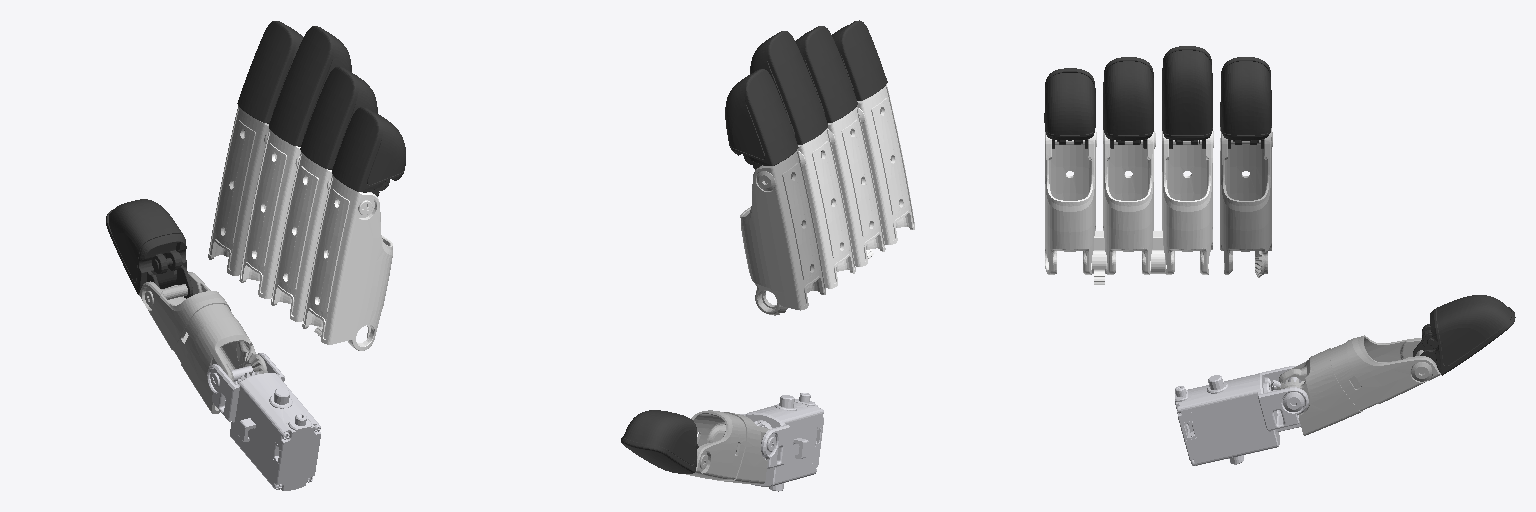
robot.urdf — agile2-lite-T1-0508_URDF:
<?xml version="1.0" encoding="utf-8"?>
<!-- This URDF was automatically created by SolidWorks to URDF Exporter! Originally created by Stephen Brawner (brawner@gmail.com) 
     Commit Version: 1.6.0-4-g7f85cfe  Build Version: 1.6.7995.38578
     For more information, please see http://wiki.ros.org/sw_urdf_exporter -->
<robot
  name="agile2-lite-T1-0508_URDF">
  <link
    name="palm_link">
    <inertial>
      <origin
        xyz="-0.0025557 0.0036328 0.045437"
        rpy="0 0 0" />
      <mass
        value="0.10311" />
      <inertia
        ixx="7.3136E-05"
        ixy="4.9988E-08"
        ixz="5.0138E-06"
        iyy="5.5748E-05"
        iyz="-5.2478E-07"
        izz="2.7289E-05" />
    </inertial>
    <visual>
      <origin
        xyz="0 0 0"
        rpy="0 0 0" />
      <geometry>
        <mesh
          filename="../meshes/palm_link.STL" />
      </geometry>
      <material
        name="">
        <color
          rgba="0.90588 0.27843 1 1" />
      </material>
    </visual>
    <collision>
      <origin
        xyz="0 0 0"
        rpy="0 0 0" />
      <geometry>
        <mesh
          filename="../meshes/palm_link.STL" />
      </geometry>
    </collision>
  </link>
  <link
    name="thumb_abad_Link">
    <inertial>
      <origin
        xyz="7.9767E-05 -0.00062615 0.0070887"
        rpy="0 0 0" />
      <mass
        value="0.011435" />
      <inertia
        ixx="6.8145E-07"
        ixy="-6.2656E-10"
        ixz="-2.6064E-09"
        iyy="5.4226E-07"
        iyz="-1.9286E-08"
        izz="4.7197E-07" />
    </inertial>
    <visual>
      <origin
        xyz="0 0 0"
        rpy="0 0 0" />
      <geometry>
        <mesh
          filename="../meshes/thumb_abad_Link.STL" />
      </geometry>
      <material
        name="">
        <color
          rgba="0.86667 0.86667 0.8902 1" />
      </material>
    </visual>
    <collision>
      <origin
        xyz="0 0 0"
        rpy="0 0 0" />
      <geometry>
        <mesh
          filename="../meshes/thumb_abad_Link.STL" />
      </geometry>
    </collision>
  </link>
  <joint
    name="thumb_abad_joint"
    type="revolute">
    <origin
      xyz="0.0045 0.018574 0.033567"
      rpy="-1.3265 0 0" />
    <parent
      link="palm_link" />
    <child
      link="thumb_abad_Link" />
    <axis
      xyz="0 1 0" />
    <limit
      lower="0"
      upper="1.57"
      effort="0"
      velocity="0" />
  </joint>
  <link
    name="Thumb_pip_link">
    <inertial>
      <origin
        xyz="0.00014484 0.0014448 0.017207"
        rpy="0 0 0" />
      <mass
        value="0.01624" />
      <inertia
        ixx="2.4995E-06"
        ixy="1.4649E-09"
        ixz="2.1473E-08"
        iyy="2.5234E-06"
        iyz="5.1681E-08"
        izz="8.2488E-07" />
    </inertial>
    <visual>
      <origin
        xyz="0 0 0"
        rpy="0 0 0" />
      <geometry>
        <mesh
          filename="../meshes/Thumb_pip_link.STL" />
      </geometry>
      <material
        name="">
        <color
          rgba="0.75294 0.75294 0.75294 1" />
      </material>
    </visual>
    <collision>
      <origin
        xyz="0 0 0"
        rpy="0 0 0" />
      <geometry>
        <mesh
          filename="../meshes/Thumb_pip_link.STL" />
      </geometry>
    </collision>
  </link>
  <joint
    name="Thumb_pip_joint"
    type="revolute">
    <origin
      xyz="0 -0.0040951 0.02004"
      rpy="0 0 0" />
    <parent
      link="thumb_abad_Link" />
    <child
      link="Thumb_pip_link" />
    <axis
      xyz="-1 0 0" />
    <limit
      lower="-1.57"
      upper="0"
      effort="0"
      velocity="0" />
  </joint>
  <link
    name="Thumb_dip_link">
    <inertial>
      <origin
        xyz="-0.018074 -0.0046487 0.011924"
        rpy="0 0 0" />
      <mass
        value="0.014696" />
      <inertia
        ixx="8.6912E-07"
        ixy="4.3091E-09"
        ixz="1.7322E-09"
        iyy="8.689E-07"
        iyz="7.2261E-08"
        izz="3.9923E-07" />
    </inertial>
    <visual>
      <origin
        xyz="0 0 0"
        rpy="0 0 0" />
      <geometry>
        <mesh
          filename="../meshes/Thumb_dip_link.STL" />
      </geometry>
      <material
        name="">
        <color
          rgba="0.29804 0.29804 0.29804 1" />
      </material>
    </visual>
    <collision>
      <origin
        xyz="0 0 0"
        rpy="0 0 0" />
      <geometry>
        <mesh
          filename="../meshes/Thumb_dip_link.STL" />
      </geometry>
    </collision>
  </link>
  <joint
    name="Thumb_dip_joint"
    type="revolute">
    <origin
      xyz="0 0 0.036"
      rpy="0 0 0" />
    <parent
      link="Thumb_pip_link" />
    <child
      link="Thumb_dip_link" />
    <axis
      xyz="1 0 0" />
    <limit
      lower="0"
      upper="3.14"
      effort="0"
      velocity="0" />
  </joint>
  <link
    name="Index_pip_Link">
    <inertial>
      <origin
        xyz="-0.0012584 0.00013409 0.017046"
        rpy="0 0 0" />
      <mass
        value="0.01666" />
      <inertia
        ixx="2.4644E-06"
        ixy="-1.7738E-09"
        ixz="-4.9169E-08"
        iyy="2.4371E-06"
        iyz="2.1715E-08"
        izz="8.6041E-07" />
    </inertial>
    <visual>
      <origin
        xyz="0 0 0"
        rpy="0 0 0" />
      <geometry>
        <mesh
          filename="../meshes/Index_pip_Link.STL" />
      </geometry>
      <material
        name="">
        <color
          rgba="0.75294 0.75294 0.75294 1" />
      </material>
    </visual>
    <collision>
      <origin
        xyz="0 0 0"
        rpy="0 0 0" />
      <geometry>
        <mesh
          filename="../meshes/Index_pip_Link.STL" />
      </geometry>
    </collision>
  </link>
  <joint
    name="Index_pip_joint"
    type="revolute">
    <origin
      xyz="0.0024 0.024 0.08092"
      rpy="0 0 0" />
    <parent
      link="palm_link" />
    <child
      link="Index_pip_Link" />
    <axis
      xyz="0 1 0" />
    <limit
      lower="0"
      upper="1.57"
      effort="0"
      velocity="0" />
  </joint>
  <link
    name="Index_dip_Link">
    <inertial>
      <origin
        xyz="0.0046487 -0.018074 0.011924"
        rpy="0 0 0" />
      <mass
        value="0.014696" />
      <inertia
        ixx="8.6891E-07"
        ixy="-4.3089E-09"
        ixz="-7.2268E-08"
        iyy="8.6912E-07"
        iyz="1.7315E-09"
        izz="3.9923E-07" />
    </inertial>
    <visual>
      <origin
        xyz="0 0 0"
        rpy="0 0 0" />
      <geometry>
        <mesh
          filename="../meshes/Index_dip_Link.STL" />
      </geometry>
      <material
        name="">
        <color
          rgba="0.29804 0.29804 0.29804 1" />
      </material>
    </visual>
    <collision>
      <origin
        xyz="0 0 0"
        rpy="0 0 0" />
      <geometry>
        <mesh
          filename="../meshes/Index_dip_Link.STL" />
      </geometry>
    </collision>
  </link>
  <joint
    name="Index_dip_joint"
    type="revolute">
    <origin
      xyz="0 0 0.03602"
      rpy="0 0 0" />
    <parent
      link="Index_pip_Link" />
    <child
      link="Index_dip_Link" />
    <axis
      xyz="0 1 0" />
    <limit
      lower="0"
      upper="3.14"
      effort="0"
      velocity="0" />
  </joint>
  <link
    name="M_R_P_pip_Link">
    <inertial>
      <origin
        xyz="0.012393 -0.0086511 -0.0086511"
        rpy="0 0 0" />
      <mass
        value="0.1" />
      <inertia
        ixx="1.5956E-06"
        ixy="1.5956E-06"
        ixz="1.5956E-06"
        iyy="1.5956E-06"
        iyz="1.5956E-06"
        izz="1.5956E-06" />
    </inertial>
    <visual>
      <origin
        xyz="0 0 0"
        rpy="0 0 0" />
      <geometry>
        <mesh
          filename="../meshes/M_R_P_pip_Link.STL" />
      </geometry>
      <material
        name="">
        <color
          rgba="1 1 1 1" />
      </material>
    </visual>
    <collision>
      <origin
        xyz="0 0 0"
        rpy="0 0 0" />
      <geometry>
        <mesh
          filename="../meshes/M_R_P_pip_Link.STL" />
      </geometry>
    </collision>
  </link>
  <joint
    name="M_R_P_pip_joint"
    type="revolute">
    <origin
      xyz="0.0024 -0.008 0.08092"
      rpy="0 0 0" />
    <parent
      link="palm_link" />
    <child
      link="M_R_P_pip_Link" />
    <axis
      xyz="0 1 0" />
    <limit
      lower="0"
      upper="1.57"
      effort="0"
      velocity="0" />
  </joint>
  <link
    name="M_R_P_dip_Link">
    <inertial>
      <origin
        xyz="0.0052021 -0.0086511 0.012393"
        rpy="0 0 0" />
      <mass
        value="0.028648" />
      <inertia
        ixx="1.5956E-06"
        ixy="-4.1158E-09"
        ixz="-1.5722E-07"
        iyy="1.5964E-06"
        iyz="3.0461E-09"
        izz="7.6905E-07" />
    </inertial>
    <visual>
      <origin
        xyz="0 0 0"
        rpy="0 0 0" />
      <geometry>
        <mesh
          filename="../meshes/M_R_P_dip_Link.STL" />
      </geometry>
      <material
        name="">
        <color
          rgba="0.29804 0.29804 0.29804 1" />
      </material>
    </visual>
    <collision>
      <origin
        xyz="0 0 0"
        rpy="0 0 0" />
      <geometry>
        <mesh
          filename="../meshes/M_R_P_dip_Link.STL" />
      </geometry>
    </collision>
  </link>
  <joint
    name="M_R_P_dip_joint"
    type="revolute">
    <origin
      xyz="0 0 0.036"
      rpy="0 0 0" />
    <parent
      link="M_R_P_pip_Link" />
    <child
      link="M_R_P_dip_Link" />
    <axis
      xyz="0 1 0" />
    <limit
      lower="0"
      upper="3.14"
      effort="0"
      velocity="0" />
  </joint>
</robot>

--- What the picture shows (computed from the rendered views, not written in the file) ---
The picture shows the robot from 3 angles, left to right: view 1: azimuth 30°, elevation 25°; view 2: azimuth 150°, elevation 25°; view 3: azimuth 270°, elevation 25°; orthographic projection.
Robot: agile2-lite-T1-0508_URDF — 8 links, 7 joints (7 revolute); root link palm_link; default pose: every joint at zero.
Links seen in each view (by area): view 1: M_R_P_pip_Link, M_R_P_dip_Link, thumb_abad_Link, Thumb_pip_link, Thumb_dip_link, Index_pip_Link, Index_dip_Link; view 2: M_R_P_pip_Link, M_R_P_dip_Link, Index_pip_Link, Index_dip_Link, thumb_abad_Link, Thumb_pip_link, Thumb_dip_link; view 3: M_R_P_pip_Link, M_R_P_dip_Link, thumb_abad_Link, Thumb_pip_link, Index_pip_Link, Thumb_dip_link, Index_dip_Link.
Boxes of the visible links, bbox=[...] form: M_R_P_pip_Link: bbox=[239, 129, 392, 350]; M_R_P_dip_Link: bbox=[269, 26, 405, 196]; thumb_abad_Link: bbox=[207, 353, 320, 490]; Thumb_pip_link: bbox=[139, 272, 267, 413]; Thumb_dip_link: bbox=[106, 199, 192, 298]; Index_pip_Link: bbox=[208, 106, 268, 275]; Index_dip_Link: bbox=[237, 21, 303, 130]; M_R_P_pip_Link: bbox=[798, 84, 914, 288]; M_R_P_dip_Link: bbox=[750, 20, 887, 151]; Index_pip_Link: bbox=[740, 149, 825, 315]; Index_dip_Link: bbox=[725, 69, 798, 169]; thumb_abad_Link: bbox=[735, 393, 823, 491]; Thumb_pip_link: bbox=[686, 410, 769, 483]; Thumb_dip_link: bbox=[621, 410, 698, 473]; M_R_P_pip_Link: bbox=[1045, 128, 1213, 284]; M_R_P_dip_Link: bbox=[1044, 46, 1212, 148]; thumb_abad_Link: bbox=[1175, 366, 1308, 465]; Thumb_pip_link: bbox=[1277, 335, 1440, 435]; Index_pip_Link: bbox=[1220, 127, 1272, 277]; Thumb_dip_link: bbox=[1413, 295, 1515, 375]; Index_dip_Link: bbox=[1220, 57, 1271, 148].
Bounding box of the posed robot: 0.0278 × 0.1285 × 0.1288 m (x, y, z).
Meshes: 8 distinct files referenced, 7 mesh visuals loaded (7 binary STL); not drawn: 1 (reference not matched to a file when rendering).
